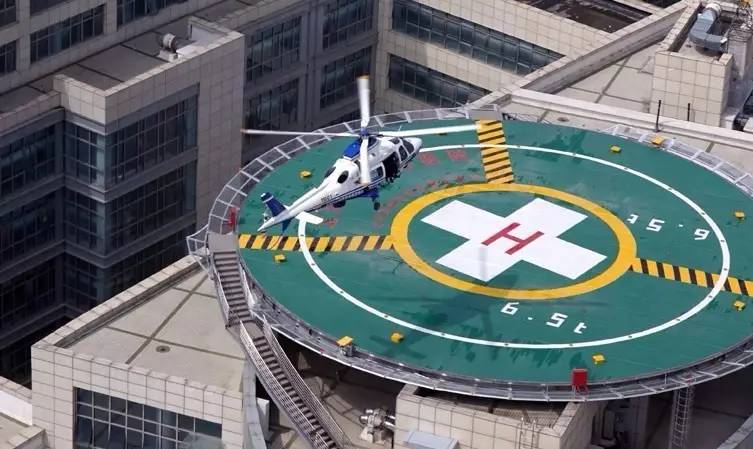H: (482, 222, 545, 257)
